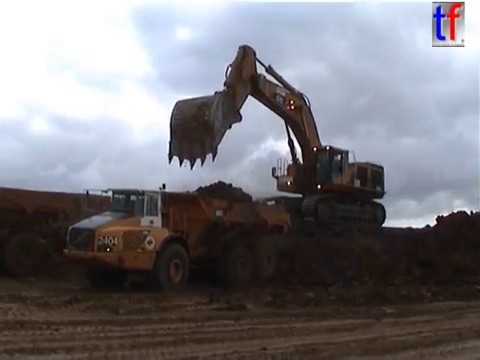excavator: (165, 42, 390, 230)
truck: (61, 181, 295, 294), (1, 183, 166, 285)
